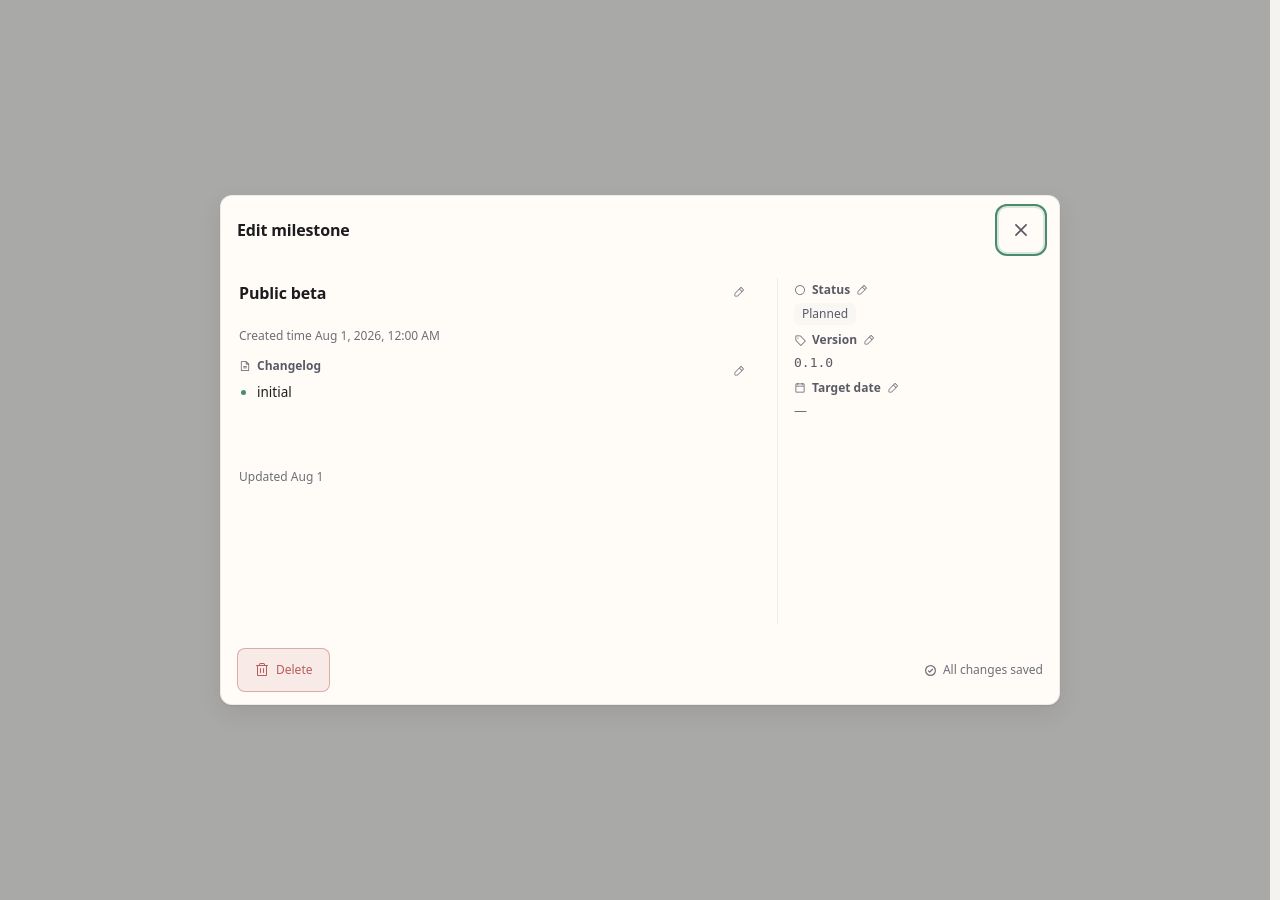
Test: MilestoneModal › renders name, status, date and changelog controls
The image size is (1280, 900).
Expected: the text box named "Name" holds "Public beta", [239, 278, 753, 310]
Expected: the button "Planned" is shown, [794, 303, 1041, 325]
Click the button with aria-label "Changelog": x=274, y=392 [257, 383, 292, 401]
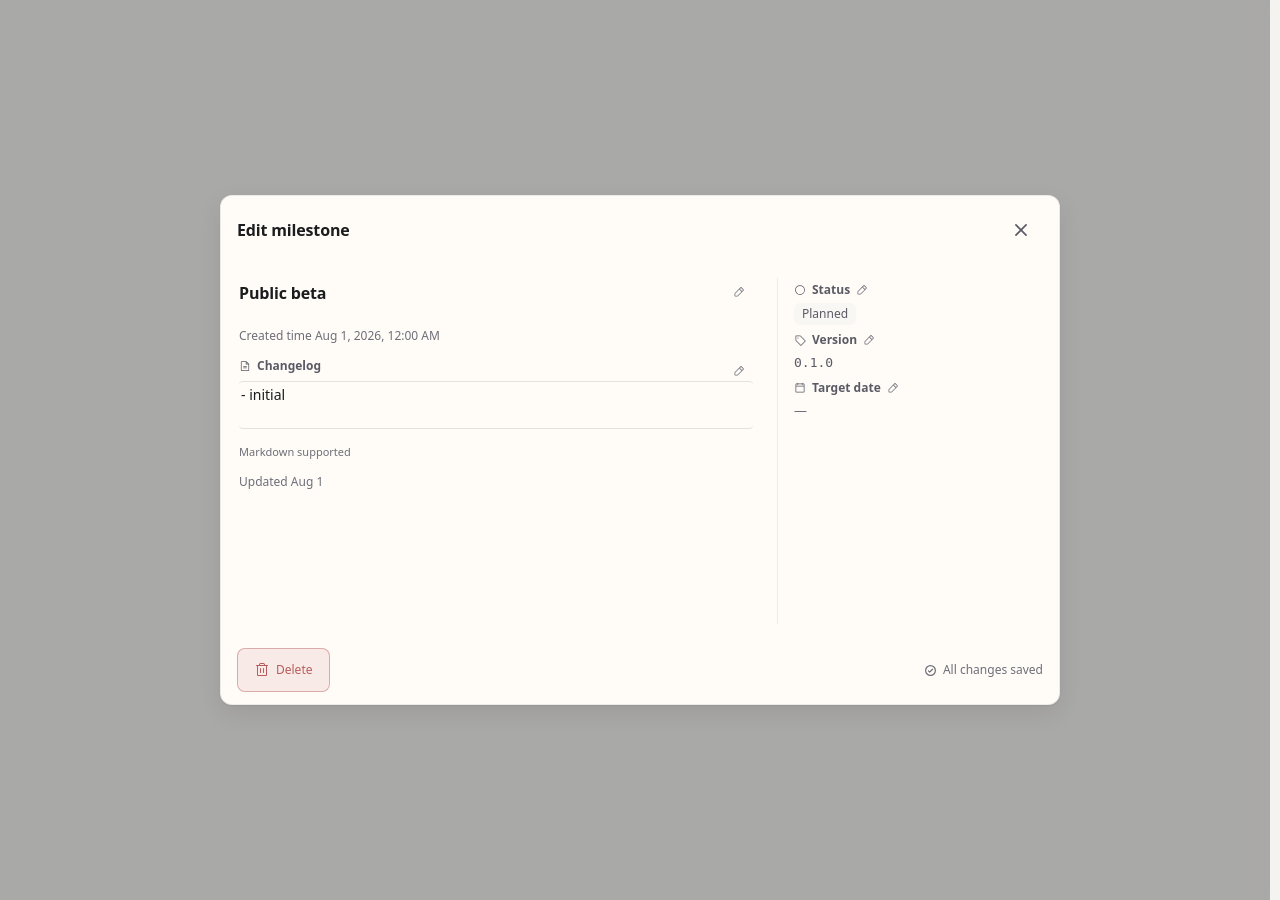
Expected: the button "Delete" is shown, [237, 648, 330, 692]
Expected: the text box named "Changelog" holds "- initial", [239, 381, 753, 429]
